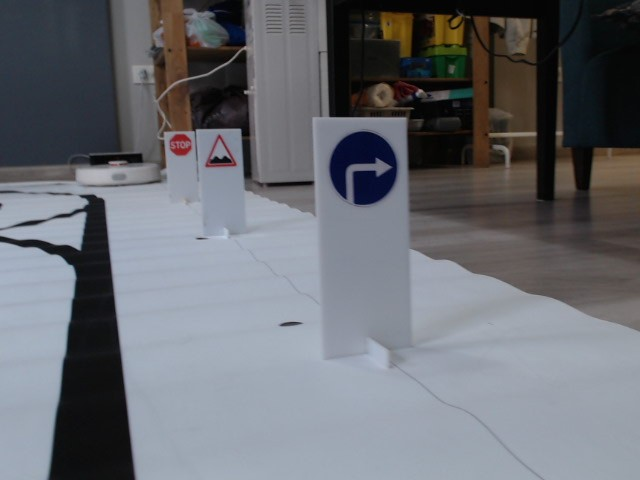Nerov: (202, 133, 238, 168)
Right: (330, 129, 396, 206)
Stop: (168, 134, 192, 156)
